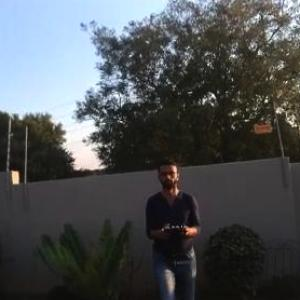follow: (142, 149, 208, 299)
